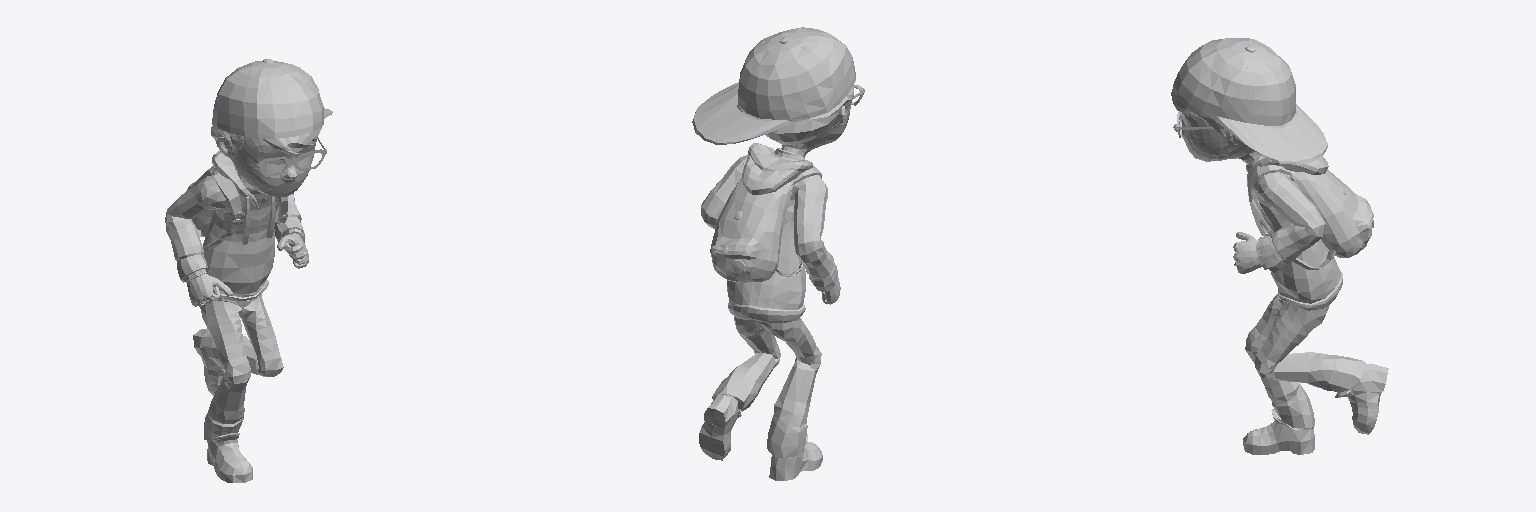
The model's file is walk16.obj.
3 renders of one model, left to right at view 1: azimuth 30°, elevation 25°; view 2: azimuth 150°, elevation 25°; view 3: azimuth 270°, elevation 25°, orthographic.
Parts seen in each view (by area): view 1: Boy01_Body_Geo_Boy01_Body_GeoMesh, h_Geo_h_GeoMesh, Boy01_Eyes_Geo_Boy01_Eyes_GeoMesh, Boy01_Brows_Geo_Boy01_Brows_GeoMesh; view 2: Boy01_Body_Geo_Boy01_Body_GeoMesh; view 3: Boy01_Body_Geo_Boy01_Body_GeoMesh.
Boxes of the visible parts, x1,y1,x2,y2 form: Boy01_Body_Geo_Boy01_Body_GeoMesh: [165, 59, 332, 482]; h_Geo_h_GeoMesh: [252, 165, 310, 196]; Boy01_Eyes_Geo_Boy01_Eyes_GeoMesh: [247, 147, 314, 177]; Boy01_Brows_Geo_Boy01_Brows_GeoMesh: [247, 137, 317, 159]; Boy01_Body_Geo_Boy01_Body_GeoMesh: [692, 27, 864, 480]; Boy01_Body_Geo_Boy01_Body_GeoMesh: [1171, 38, 1388, 454].
Size of the model in its own units: 0.6281 by 1.74 by 0.823.